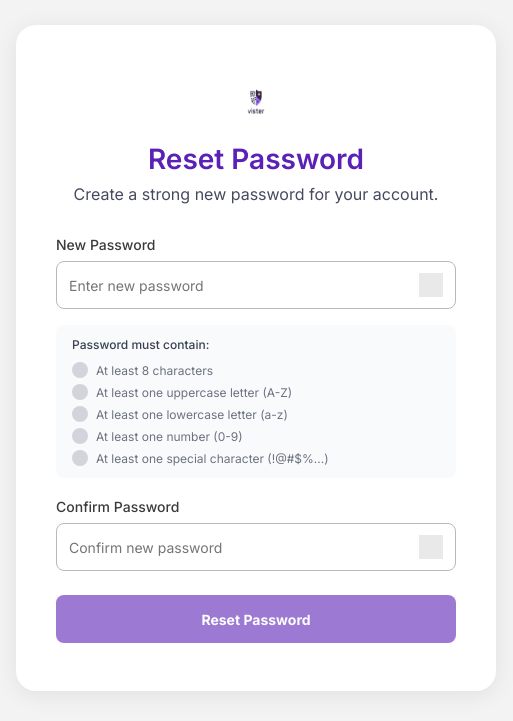
Scenario: ResetPassword › shows confirm password error on blur when passwords do not match
In the password field with id "new-password": (240, 285) [69, 276, 411, 294], type "Strong@Pass1"
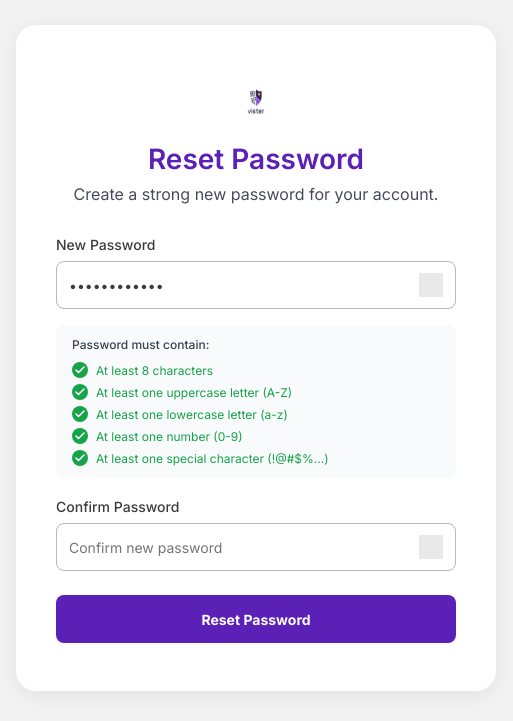
In the password field with id "confirm-password": (240, 547) [69, 538, 411, 556], type "Different@1"
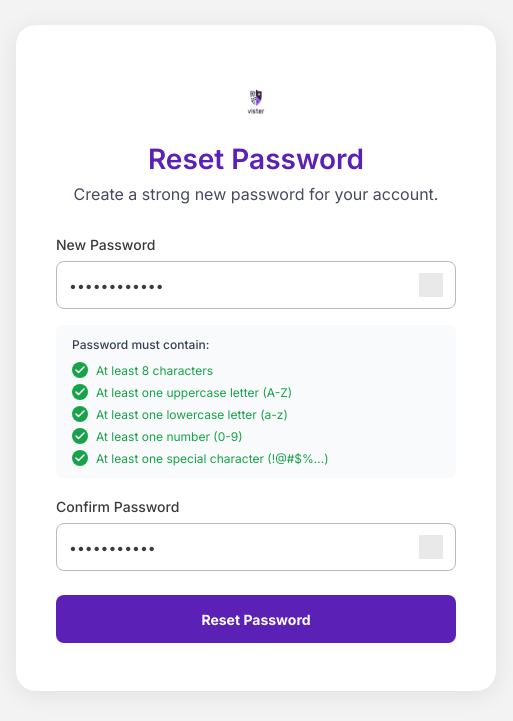
Leave the password field with id "confirm-password", box [69, 538, 411, 556]
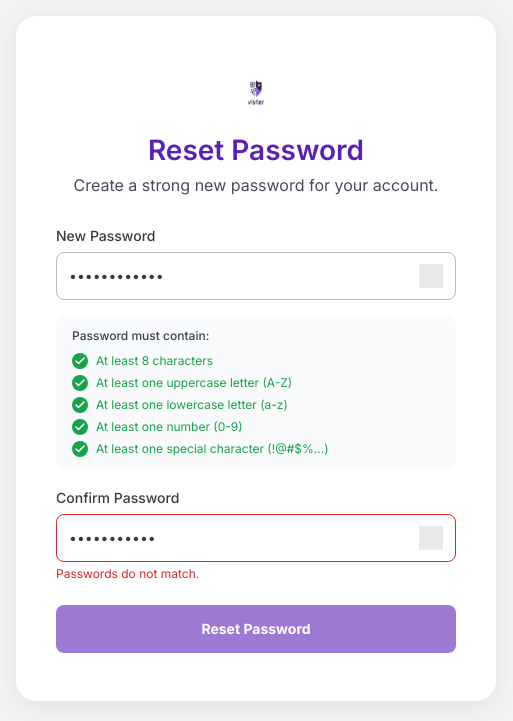
Result: the text "Passwords do not match." is shown at [56, 566, 199, 580]
